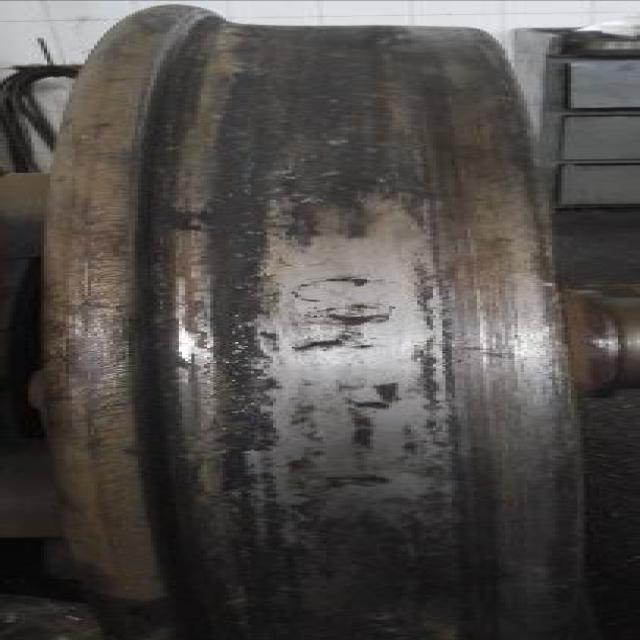Peeling: (299, 306, 398, 353), (319, 476, 398, 490)
